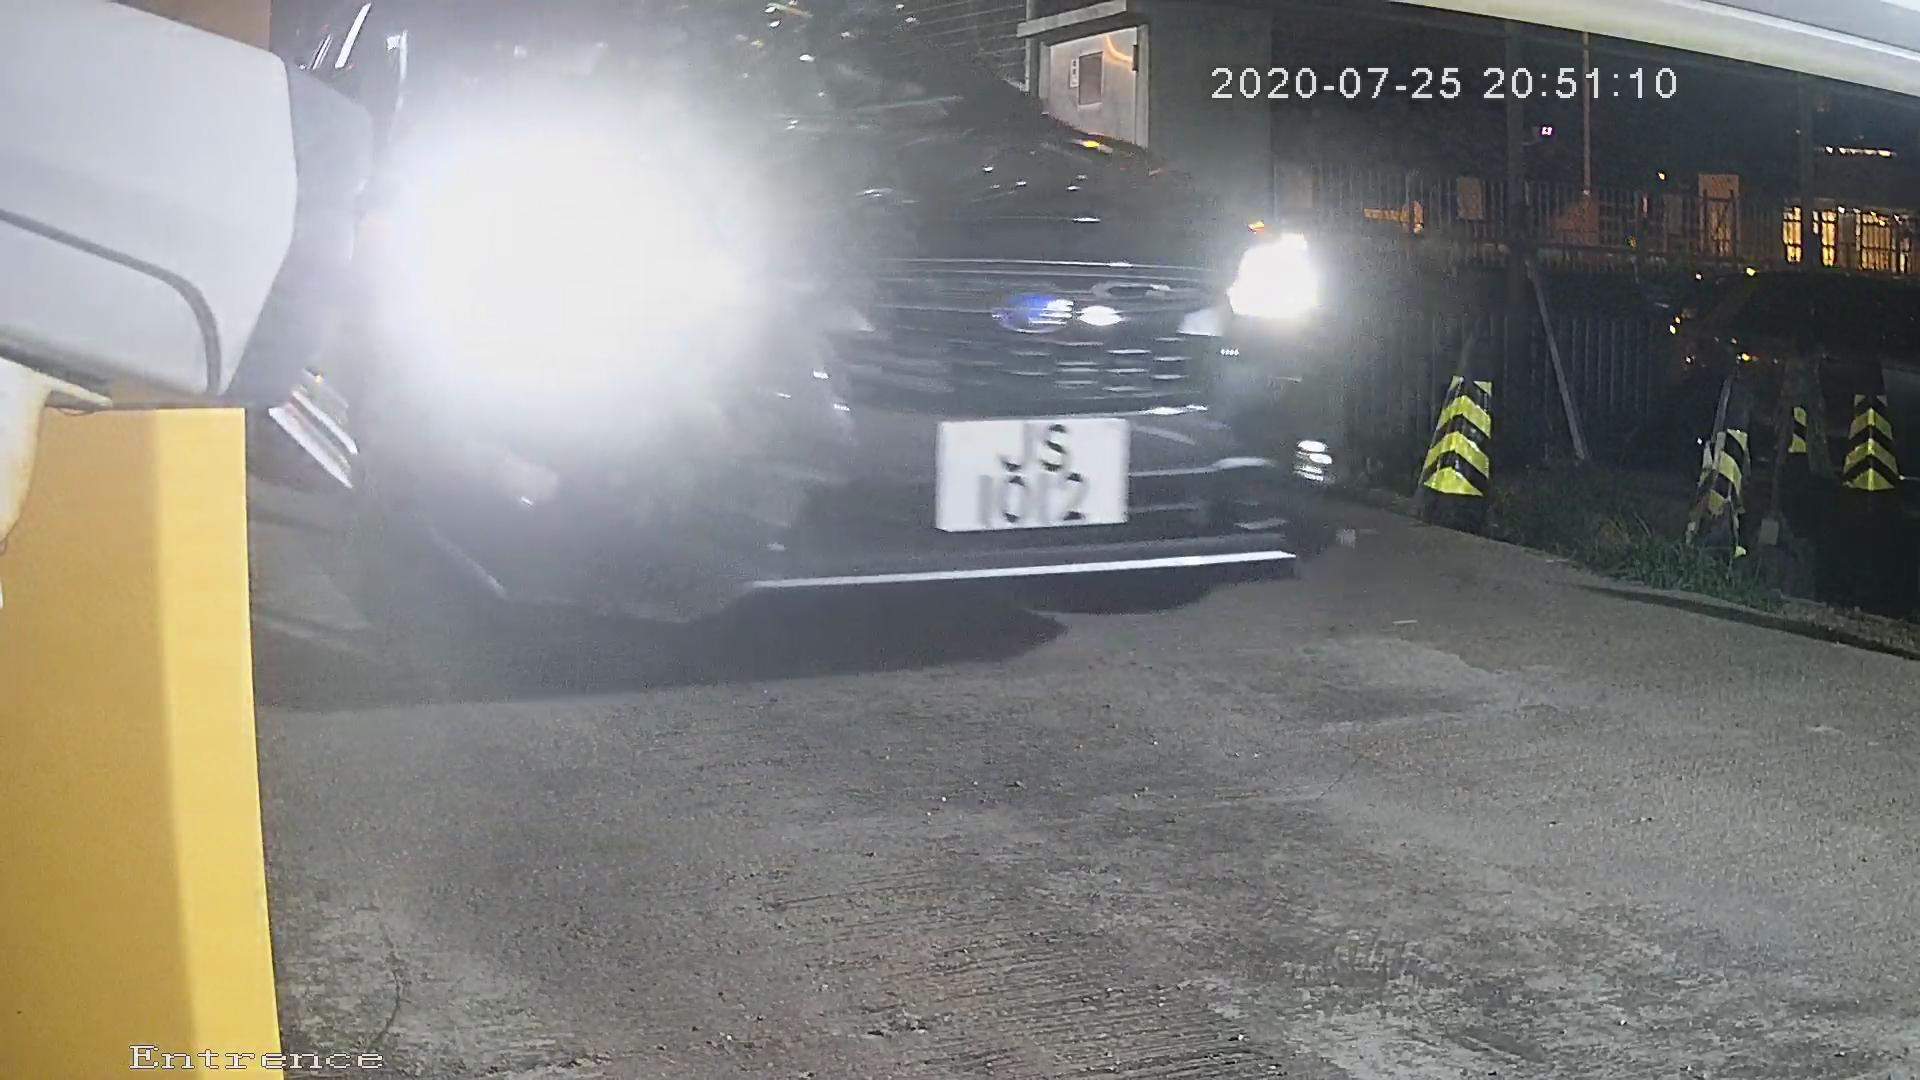License Plate: (892, 406, 1166, 541)
